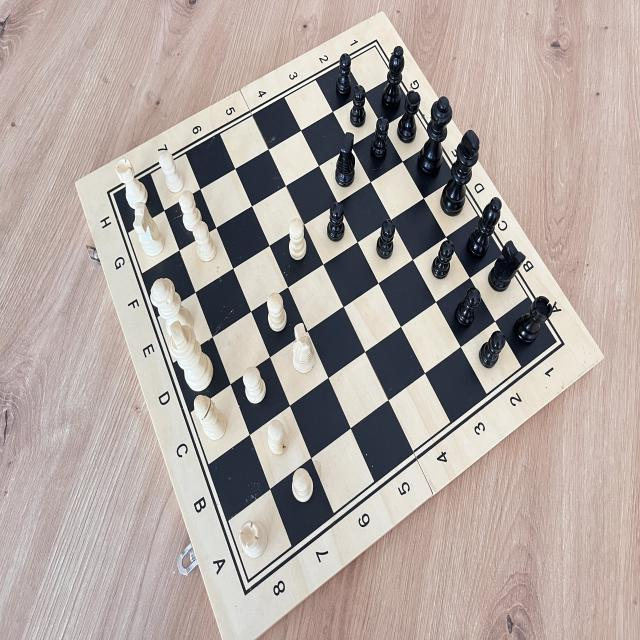black-bishop: (465, 196, 503, 262), (379, 43, 406, 114)
black-king: (438, 127, 482, 219)
black-knight: (486, 238, 526, 294), (334, 130, 357, 189)
black-pawn: (453, 285, 484, 331), (477, 328, 508, 372), (431, 236, 456, 282), (369, 114, 390, 164), (326, 199, 347, 244), (375, 216, 396, 260), (335, 50, 353, 101), (349, 82, 367, 128)
black-queen: (415, 94, 454, 182)
black-rook: (512, 294, 554, 350), (396, 88, 422, 146)
white-bishop: (188, 389, 230, 445)
white-king: (166, 316, 216, 394)
white-knight: (128, 196, 168, 262), (287, 320, 319, 379)
white-pawn: (188, 218, 218, 264), (289, 463, 318, 510), (176, 188, 205, 234), (157, 148, 185, 195), (239, 364, 269, 406), (286, 213, 310, 264), (264, 290, 290, 337), (264, 414, 290, 458)
white-queen: (146, 272, 200, 352)
white-rook: (113, 155, 155, 212), (236, 513, 271, 563)
